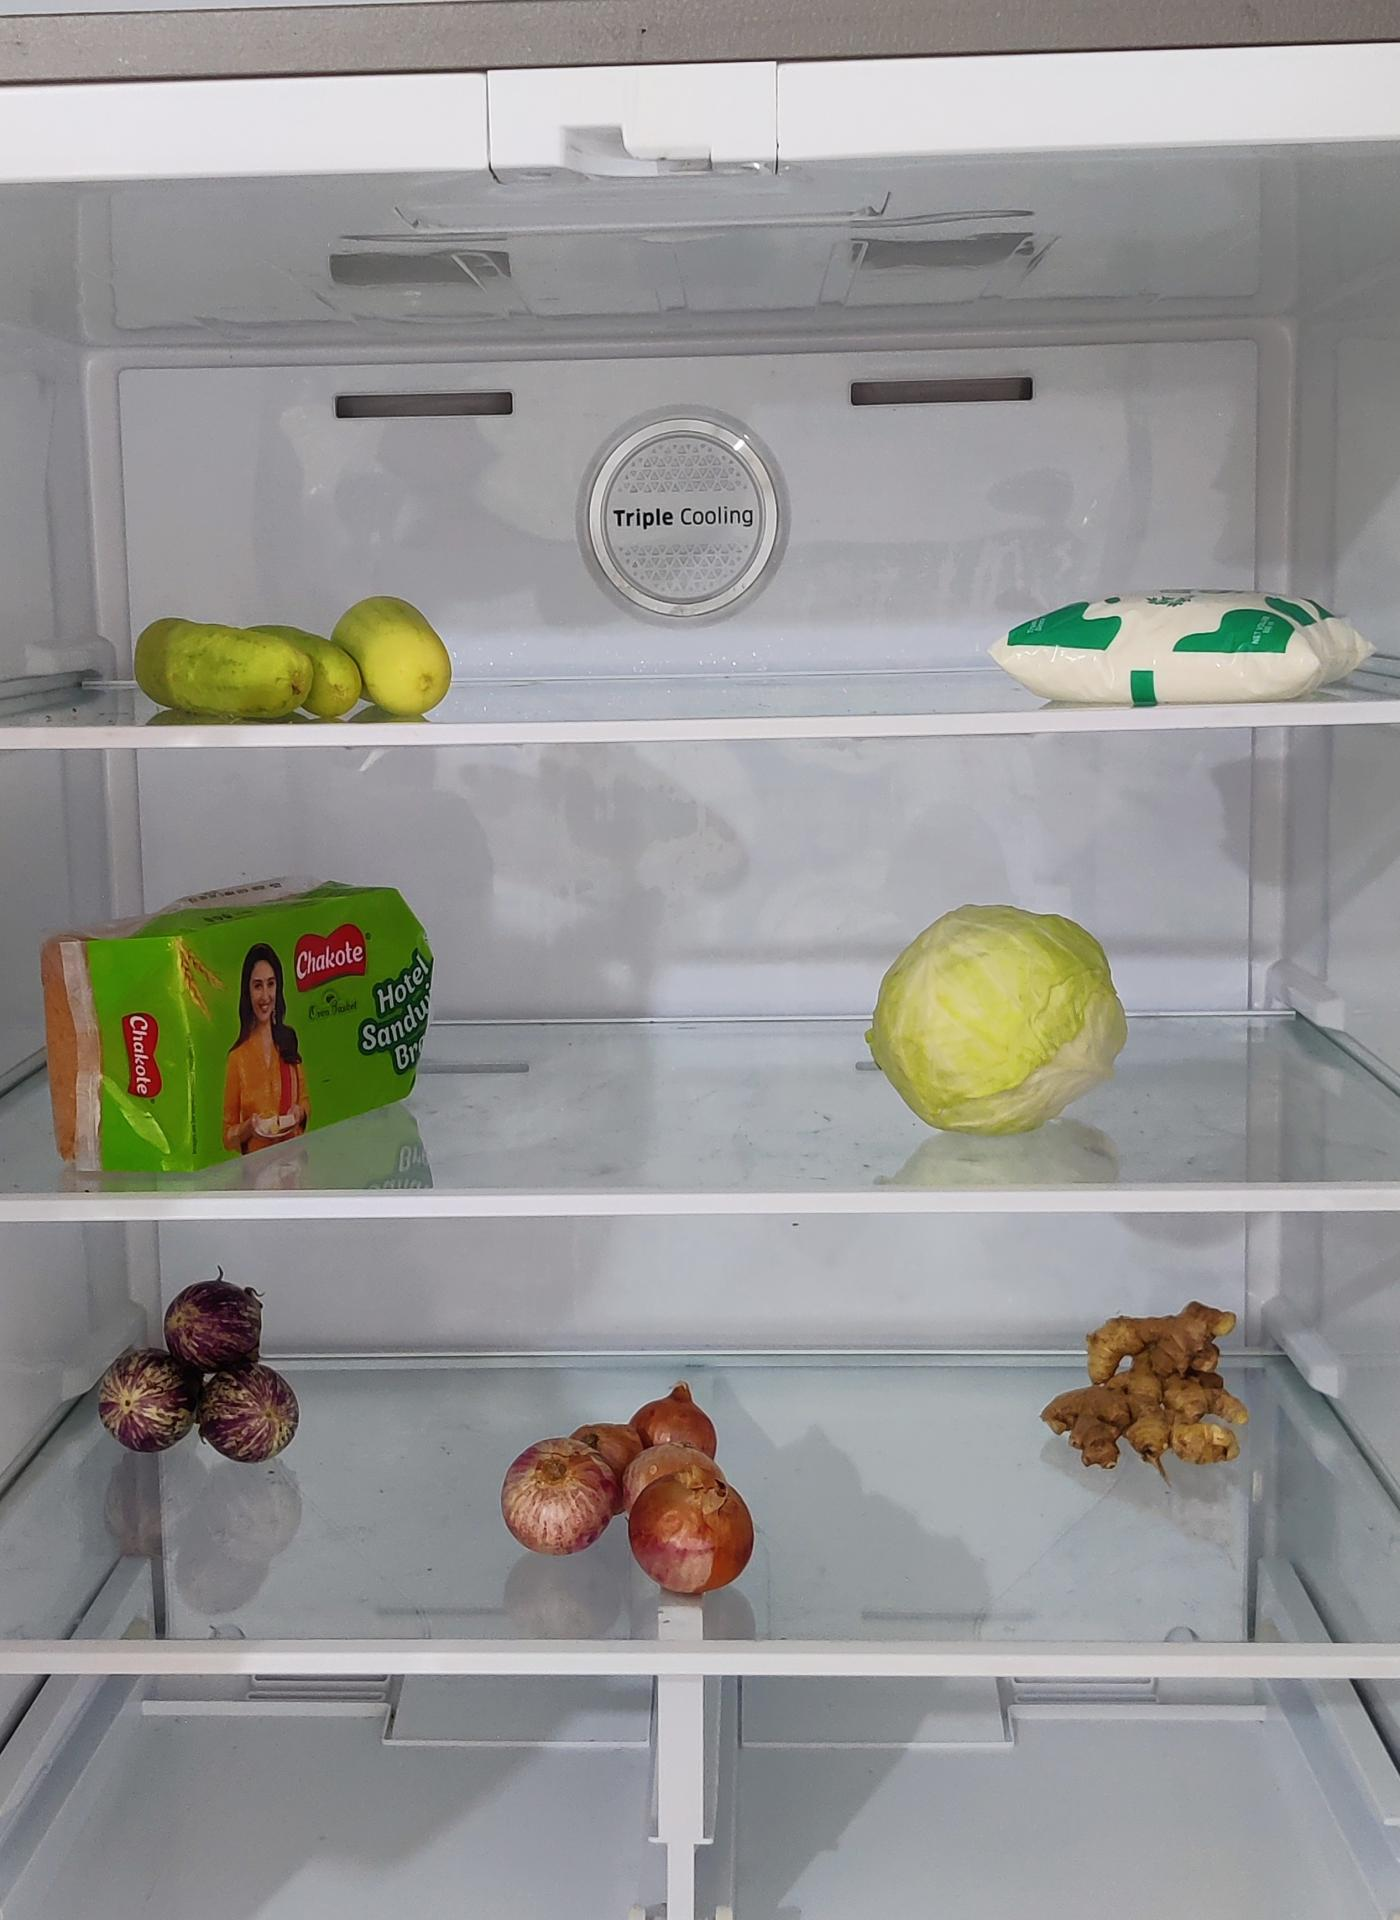bread: (39, 884, 438, 1170)
brinjal: (107, 1278, 303, 1471)
cabbage: (871, 905, 1132, 1139)
cucumber: (128, 595, 456, 723)
ginger: (1041, 1298, 1252, 1474)
milk: (993, 581, 1387, 710)
onion: (502, 1379, 760, 1592)
